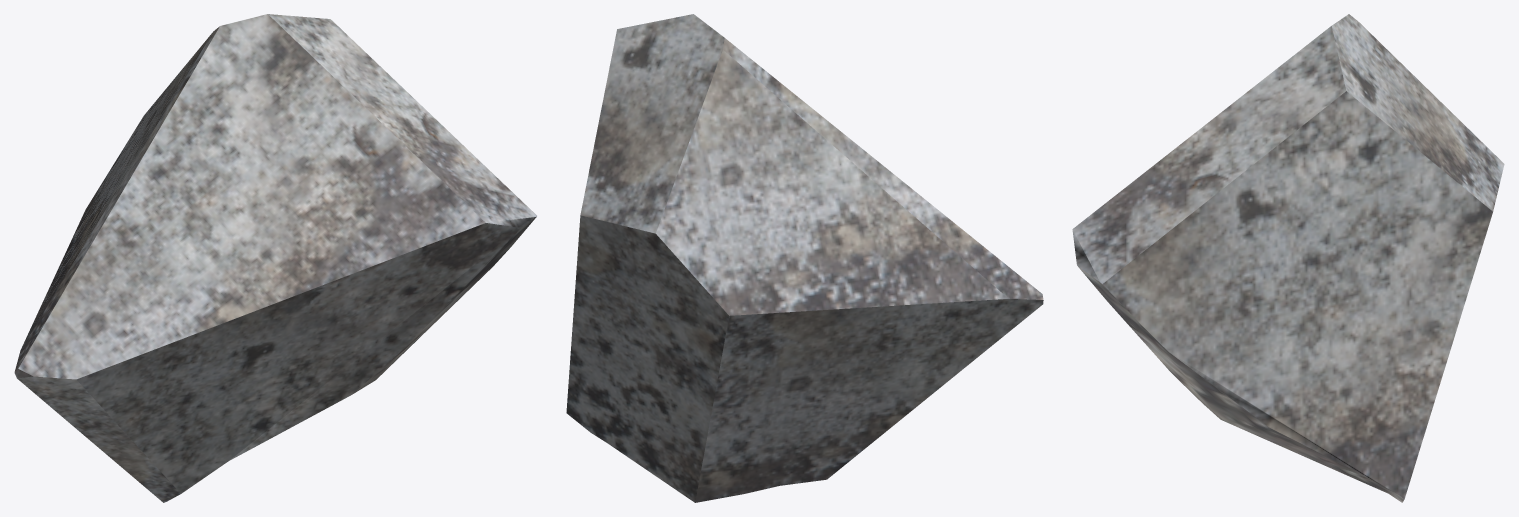
File: Asteroid_Large_001_02_001_03_008.fbx
3 views of the same model, side by side, from view 1: azimuth 30°, elevation 25°; view 2: azimuth 150°, elevation 25°; view 3: azimuth 270°, elevation 25° (orthographic). The views are drawn at different scales.
Visible parts, largest first — view 1: Asteroid_Large_001_02_001_03_008; view 2: Asteroid_Large_001_02_001_03_008; view 3: Asteroid_Large_001_02_001_03_008.
Part boxes in pixels (x1,y1,x2,y2): Asteroid_Large_001_02_001_03_008: [14, 14, 536, 502]; Asteroid_Large_001_02_001_03_008: [566, 14, 1043, 502]; Asteroid_Large_001_02_001_03_008: [1072, 14, 1504, 502].
Size of the model in its own units: 9.93 by 9.38 by 7.49.
